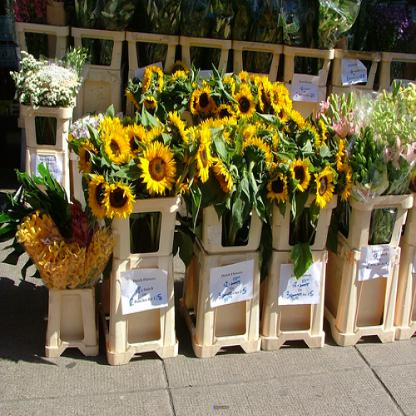SUN FLOWER: (39, 30, 398, 270)
